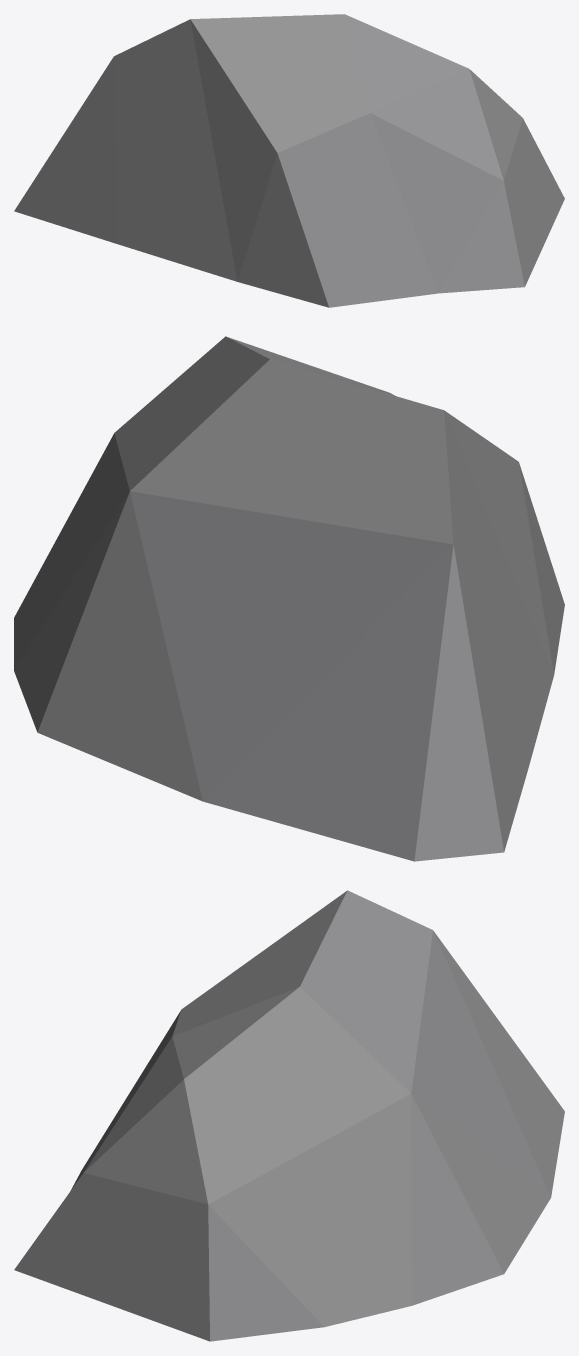
The model's file is Rock_04.glb.
The picture shows the model from 3 angles, top to bottom: view 1: azimuth 30°, elevation 25°; view 2: azimuth 150°, elevation 25°; view 3: azimuth 270°, elevation 25°; orthographic projection. The views are drawn at different scales.
Visible parts, largest first — view 1: Rock_04; view 2: Rock_04; view 3: Rock_04.
Boxes of the visible parts, bbox=[...] form: Rock_04: bbox=[14, 14, 564, 307]; Rock_04: bbox=[14, 336, 564, 861]; Rock_04: bbox=[14, 890, 564, 1341].
Size of what is drawn, in the model's own units: 1.32 by 0.6381 by 1.21.
Materials: 1 (1 with a texture image).
